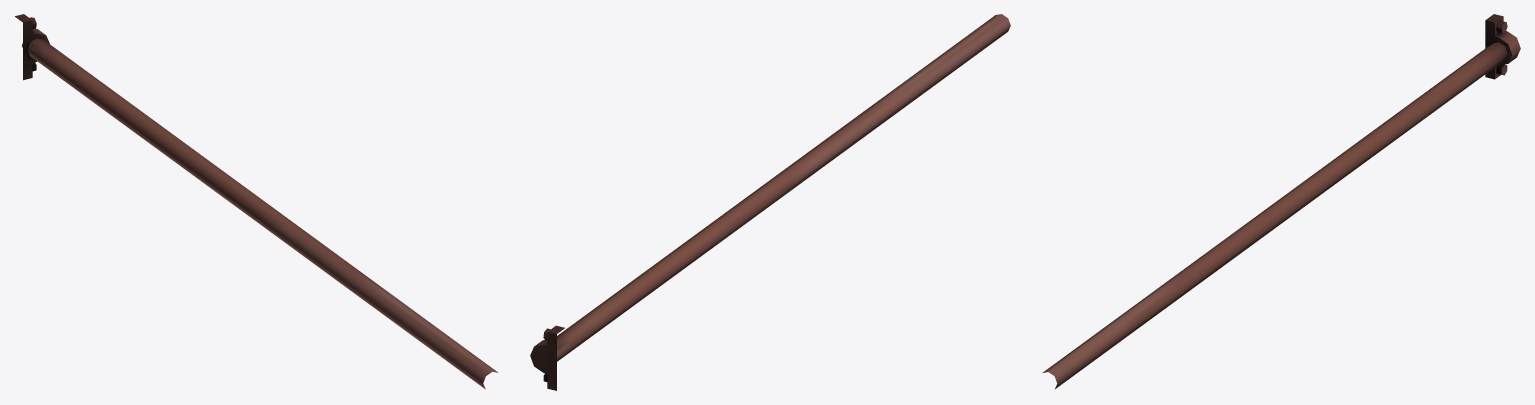
3 views of the same model, side by side, from view 1: azimuth 30°, elevation 25°; view 2: azimuth 150°, elevation 25°; view 3: azimuth 330°, elevation 25° (orthographic).
Visible parts, largest first — view 1: body0_model0_lod0_mesh0; view 2: body0_model0_lod0_mesh0; view 3: body0_model0_lod0_mesh0.
Boxes of the visible parts, left/top/right/bottom form: body0_model0_lod0_mesh0: left=15, top=14, right=498, bottom=389; body0_model0_lod0_mesh0: left=530, top=14, right=1010, bottom=390; body0_model0_lod0_mesh0: left=1042, top=14, right=1520, bottom=388.
Size of the model in its own units: 4.33 by 8.75 by 128.
1 material, 1 textured.
